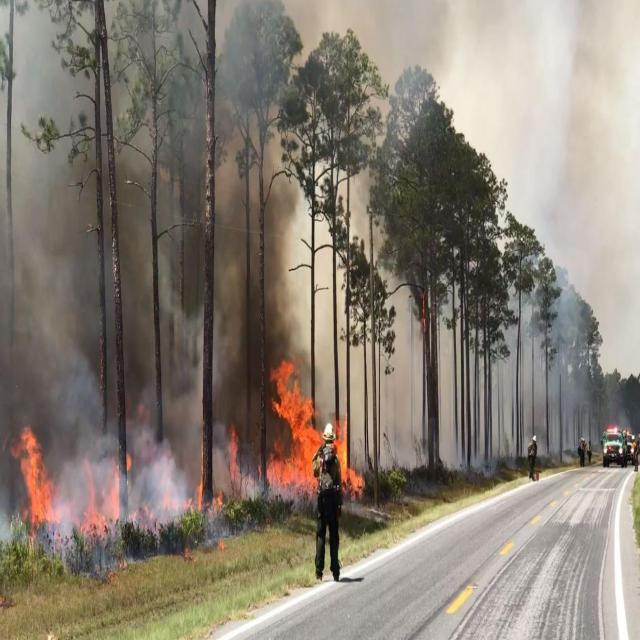fire: (258, 350, 360, 506)
